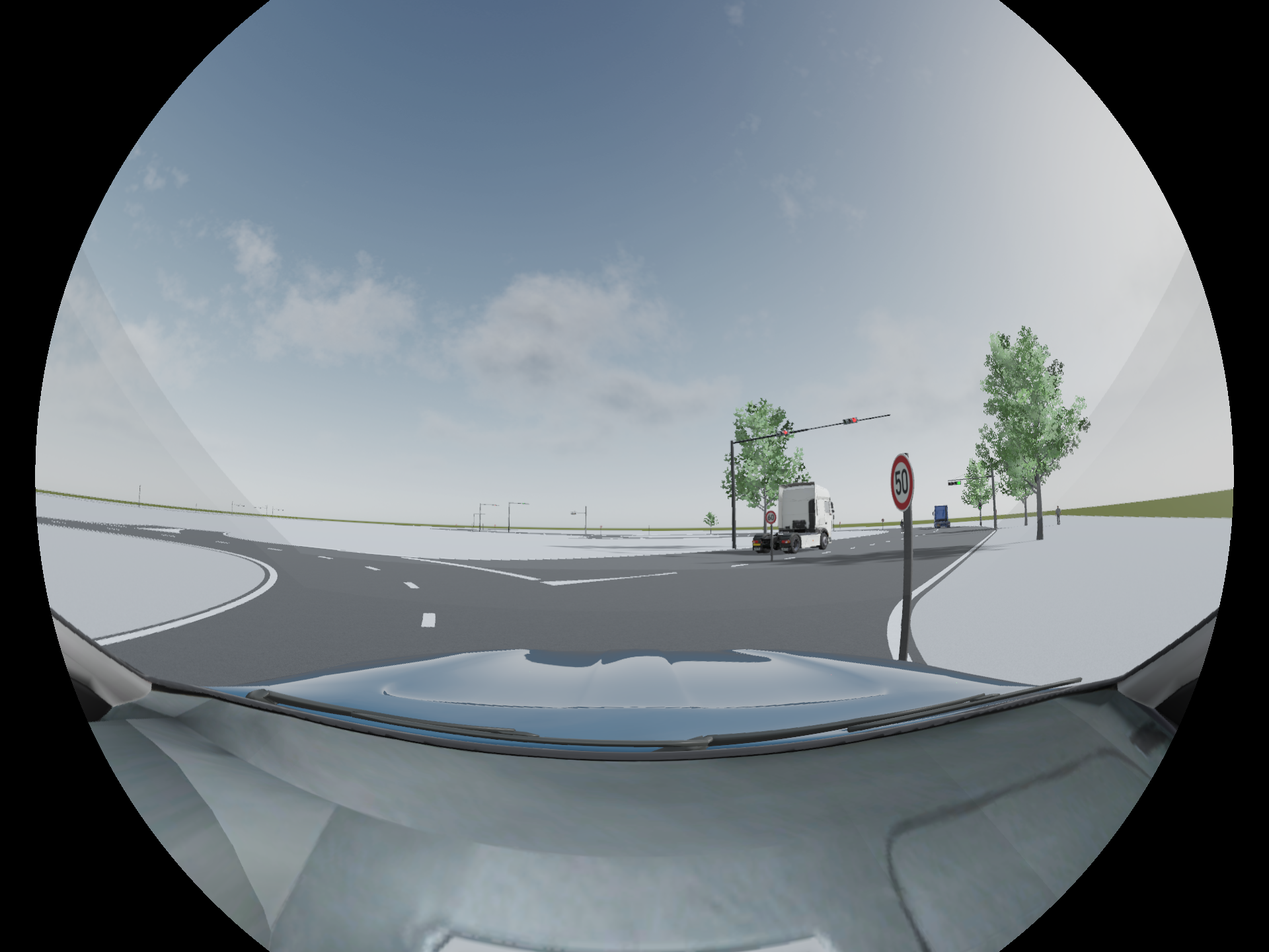Green Light: (946, 480, 962, 486)
Red Light: (841, 417, 858, 425)
Speed Limit 50: (890, 454, 914, 510)
Speed Limit 60: (765, 510, 777, 524)
